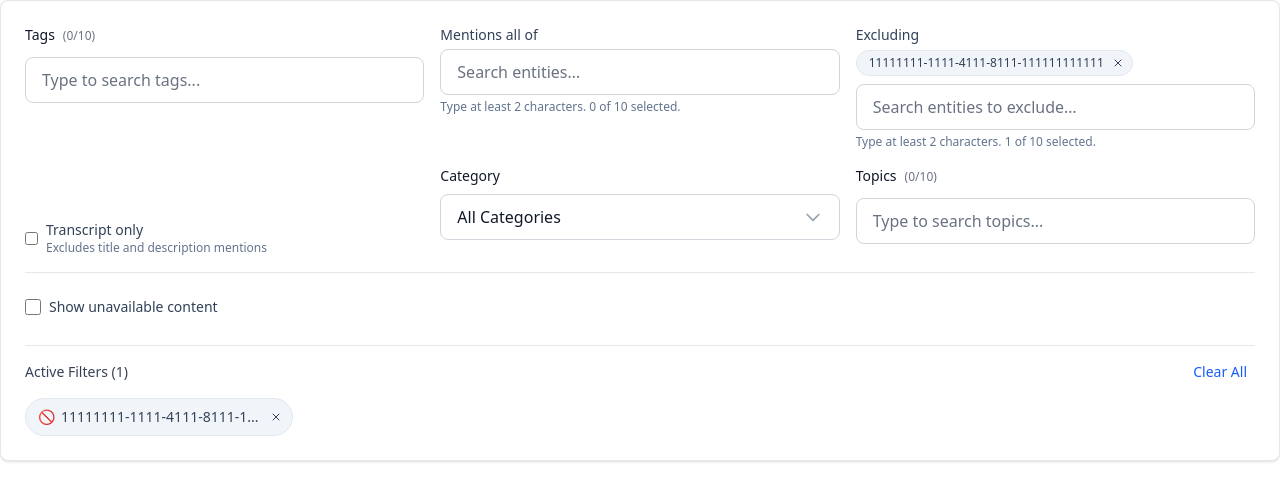
Test: VideoFilters — entity intersection (Feature 062) › selection › does not offer an entity already chosen in the opposite set
Type "ada" into the dropdown labelled "Mentions all of" at point(640, 72), box 440,49 -> 840,95
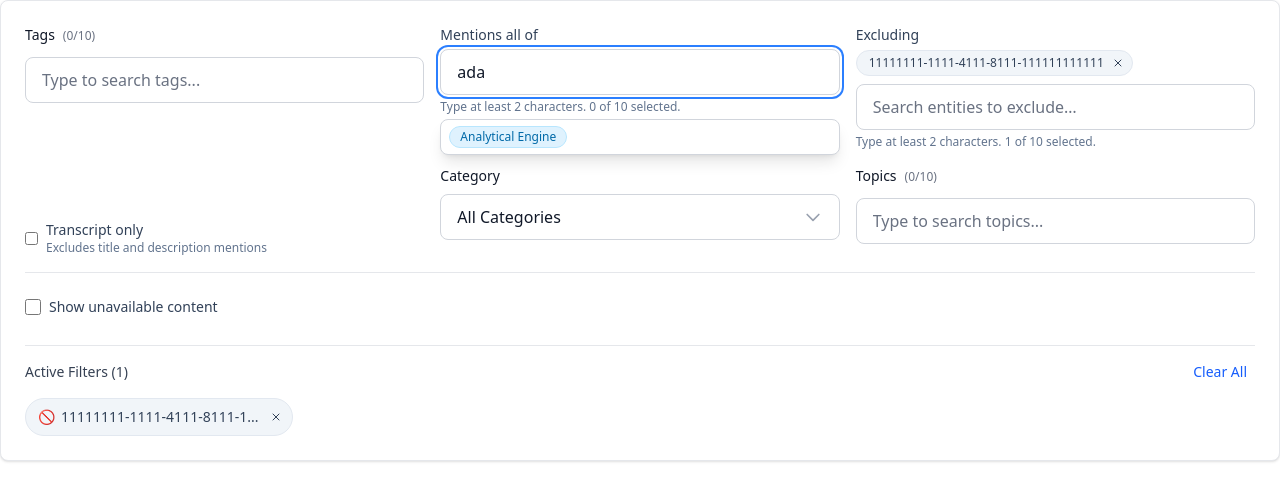
Check: the list "Analytical Engine" does not show "Ada Lovelace", box 440,119 -> 840,155
Check: the list "Analytical Engine" is shown, box 440,119 -> 840,155
